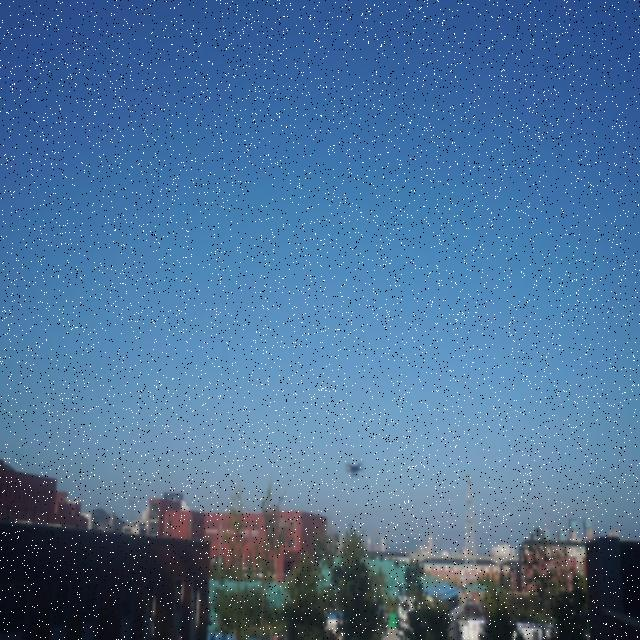UAV: (345, 463, 364, 479)
